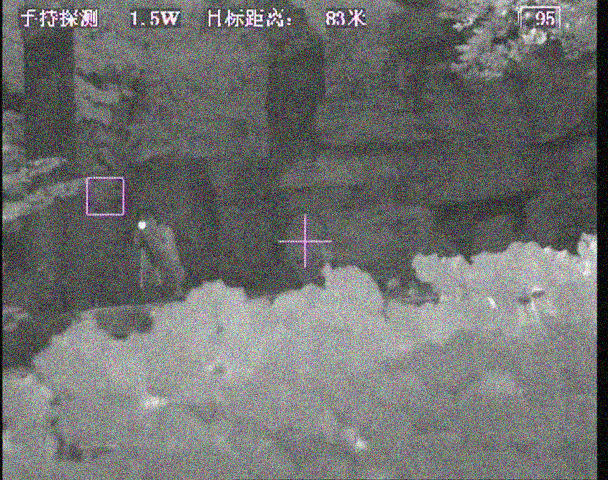my: (136, 220, 148, 231)
